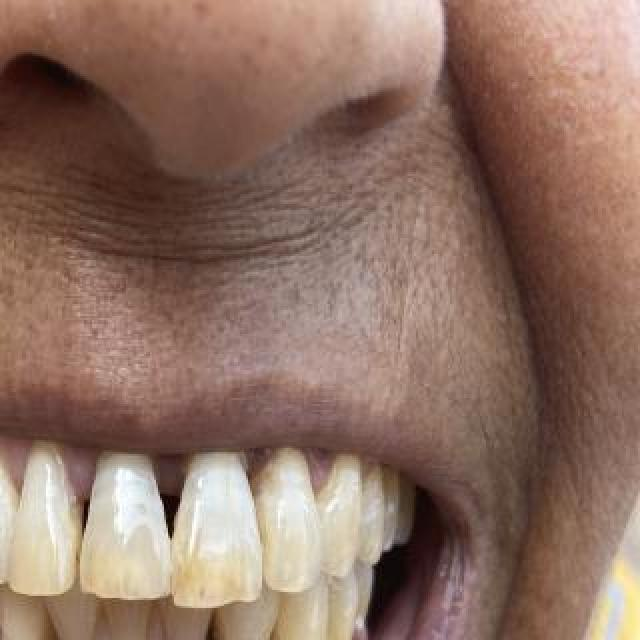calculus: (122, 590, 176, 640), (190, 606, 234, 640)
plaque: (84, 608, 126, 640)
spacing: (154, 475, 200, 557), (61, 492, 91, 586)
